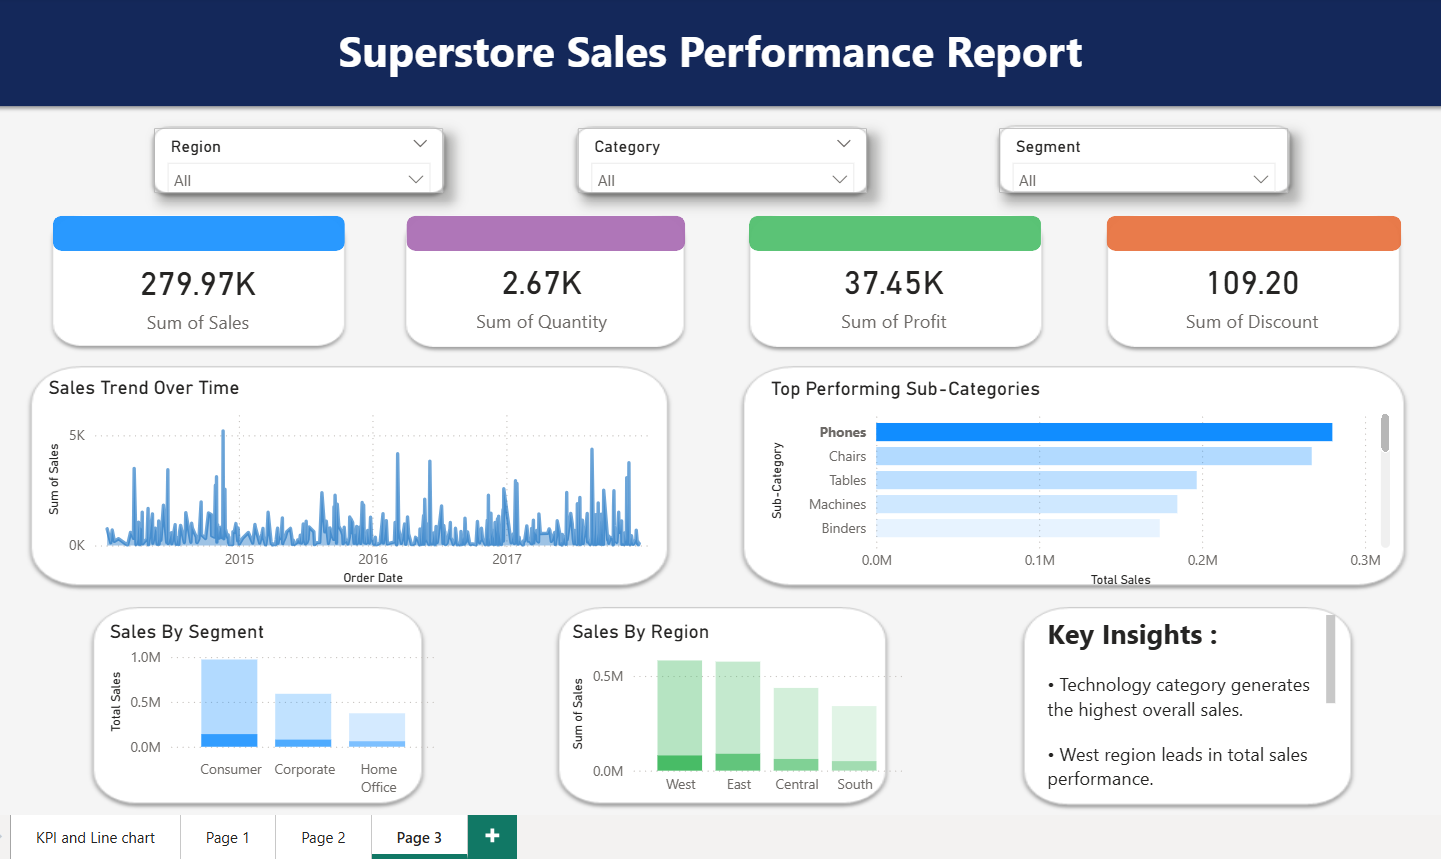

The dashboard page shown, as its layout file describes it:
{"tool":"powerbi","page":{"name":"Page 3","canvas":[1280,720],"ordinal":3},"visuals":[{"type":"card","title":"Total Sales","fields":{"Values":["Sum(Sample - Superstore.Sales)"]},"box":[44,210.7,271.4,100],"z":0},{"type":"card","fields":{"Values":["Sum(Sample - Superstore.Profit)"]},"box":[653.6,192.9,277.4,135.7],"z":1000},{"type":"card","fields":{"Values":["Sum(Sample - Superstore.Quantity)"]},"box":[354.8,192.9,253.6,135.7],"z":2000},{"type":"card","fields":{"Values":["Sum(Sample - Superstore.Discount)"]},"box":[981,192.9,252.4,135.7],"z":3000},{"type":"lineChart","title":"Sales Trend Over Time","fields":{"Category":["Sample - Superstore.Order Date"],"Y":["Sum(Sample - Superstore.Sales)"]},"box":[42.9,333.3,542.9,189.3],"z":4000},{"type":"columnChart","title":"Sales By Region","fields":{"Category":["Sample - Superstore.Region"],"Y":["Sum(Sample - Superstore.Sales)"]},"box":[503.6,547.6,300,163.1],"z":5000},{"type":"clusteredBarChart","title":"Top Performing Sub-Categories","fields":{"Category":["Sample - Superstore.Sub-Category"],"Y":["Sample - Superstore.Total Sales"]},"box":[678.6,334.5,554.8,189.3],"z":6000},{"type":"columnChart","title":"Sales By Segment","fields":{"Category":["Sample - Superstore.Segment"],"Y":["Sample - Superstore.Total Sales"]},"box":[96.4,547.6,298.8,163.1],"z":7000},{"type":"slicer","title":"Region","fields":{"Values":["Sample - Superstore.Region"]},"box":[140.5,115.5,254.8,57.1],"z":8000},{"type":"slicer","fields":{"Values":["Sample - Superstore.Category"]},"box":[513.1,115.5,254.8,57.1],"z":9000},{"type":"slicer","fields":{"Values":["Sample - Superstore.Segment"]},"box":[884.5,115.5,254.8,57.1],"z":10000},{"type":"shape","box":[51.2,192.9,257.1,31],"z":11000},{"type":"shape","box":[664.3,192.9,257.1,31],"z":12000},{"type":"shape","box":[978.6,192.9,259.5,31],"z":13000},{"type":"shape","box":[363.1,192.9,245.2,31],"z":14000},{"type":"textbox","box":[921.4,539.3,263.1,171.4],"z":16000},{"type":"textbox","box":[297.6,16.7,681,60.7],"z":16001}]}

Visuals, with their boxes on the page's 1280x720 design canvas (x1, y1, x2, y2). These are canvas units, not pixel positions in the 1441x859 screenshot, which may show the page scaled, cropped or inside an application window:
"Total Sales" card: 44, 211, 315, 311
card - Sum(Sample - Superstore.Profit): 654, 193, 931, 329
card - Sum(Sample - Superstore.Quantity): 355, 193, 608, 329
card - Sum(Sample - Superstore.Discount): 981, 193, 1233, 329
"Sales Trend Over Time" lineChart: 43, 333, 586, 523
"Sales By Region" columnChart: 504, 548, 804, 711
"Top Performing Sub-Categories" clusteredBarChart: 679, 334, 1233, 524
"Sales By Segment" columnChart: 96, 548, 395, 711
"Region" slicer: 140, 116, 395, 173
slicer - Sample - Superstore.Category: 513, 116, 768, 173
slicer - Sample - Superstore.Segment: 884, 116, 1139, 173
shape: 51, 193, 308, 224
shape: 664, 193, 921, 224
shape: 979, 193, 1238, 224
shape: 363, 193, 608, 224
textbox: 921, 539, 1184, 711
textbox: 298, 17, 979, 77
